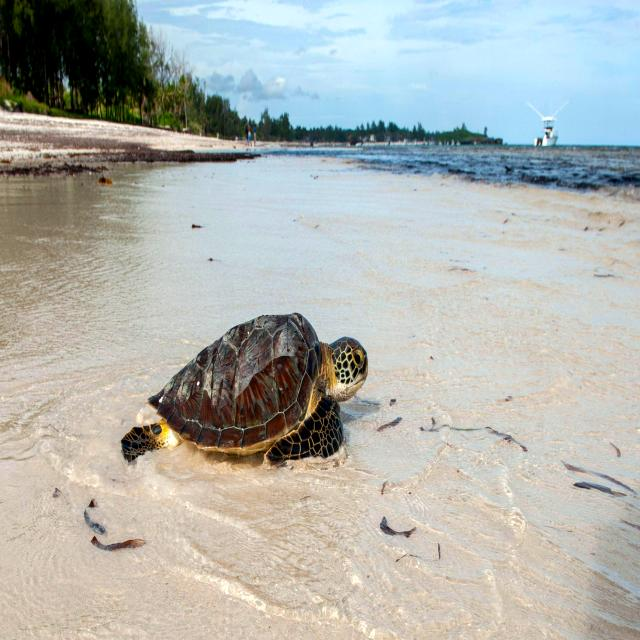Sea turtle: (120, 306, 362, 498)
